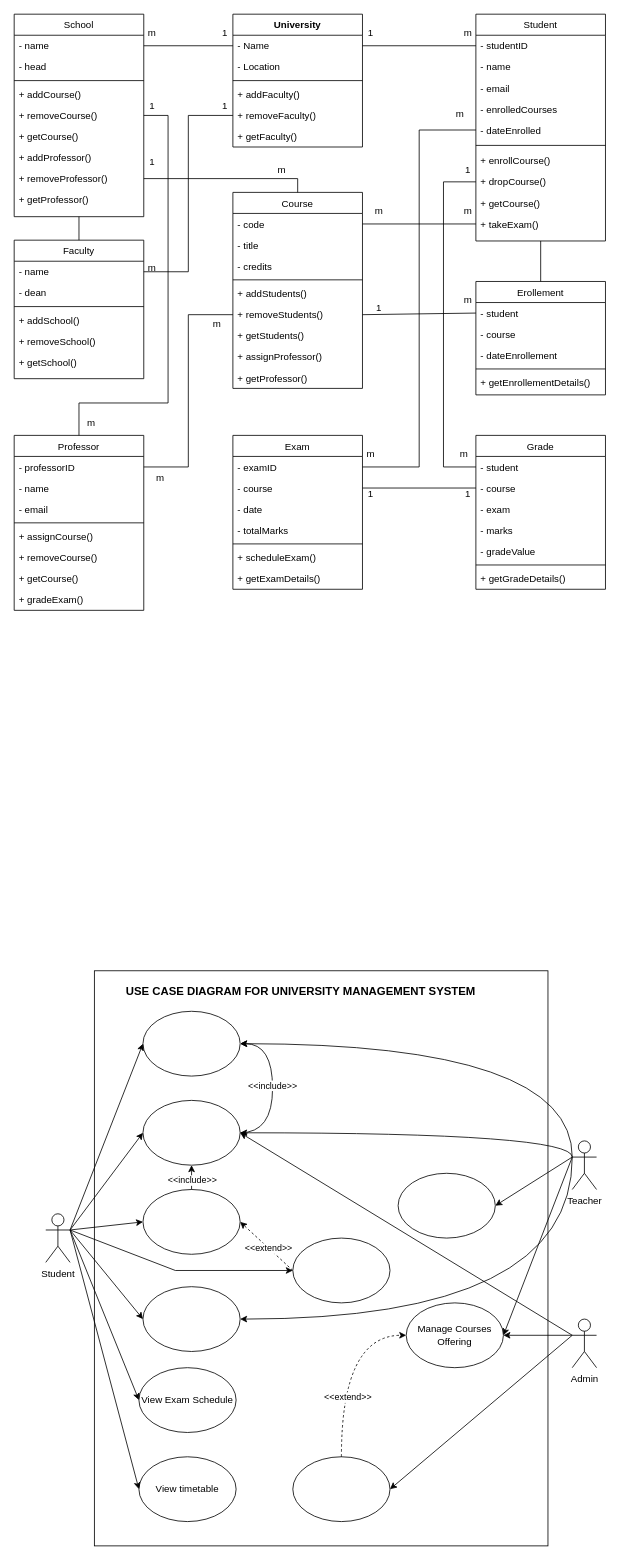
The diagram is 620 pixels wide and 1560 high, and some of its shapes have lost their labels. Here are the shapes that lost their labels. From the top down, the centre of each, then its label:
[191,1043]: Register
[191,1132]: Log In
[191,1221]: Eroll in Course
[446,1205]: Grade Courses
[341,1270]: Notify Student Important Dates
[191,1318]: View Grade
[341,1489]: Generate Reports
